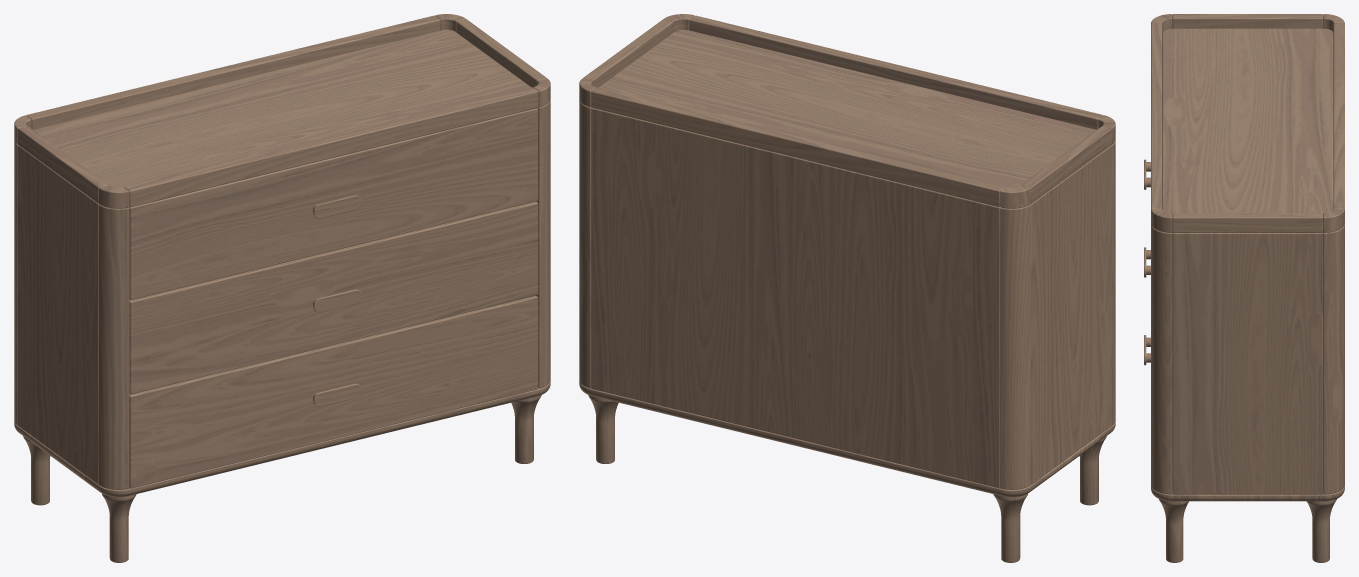
The model's file is Tasman_Eco_Willow_Drawer_Chest_Static_Sandstone_c.glb.
The picture shows the model from 3 angles, left to right: view 1: azimuth 30°, elevation 25°; view 2: azimuth 150°, elevation 25°; view 3: azimuth 270°, elevation 25°; orthographic projection. The views are drawn at different scales.
Visible parts, largest first — view 1: Wood; view 2: Wood; view 3: Wood.
Boxes of the visible parts, x1,y1,x2,y2 form: Wood: (14, 14, 550, 562); Wood: (579, 14, 1115, 562); Wood: (1144, 14, 1344, 562).
Bounding box in the file's own units: 1.12 × 0.901 × 0.466.
2 materials, 2 textured.
